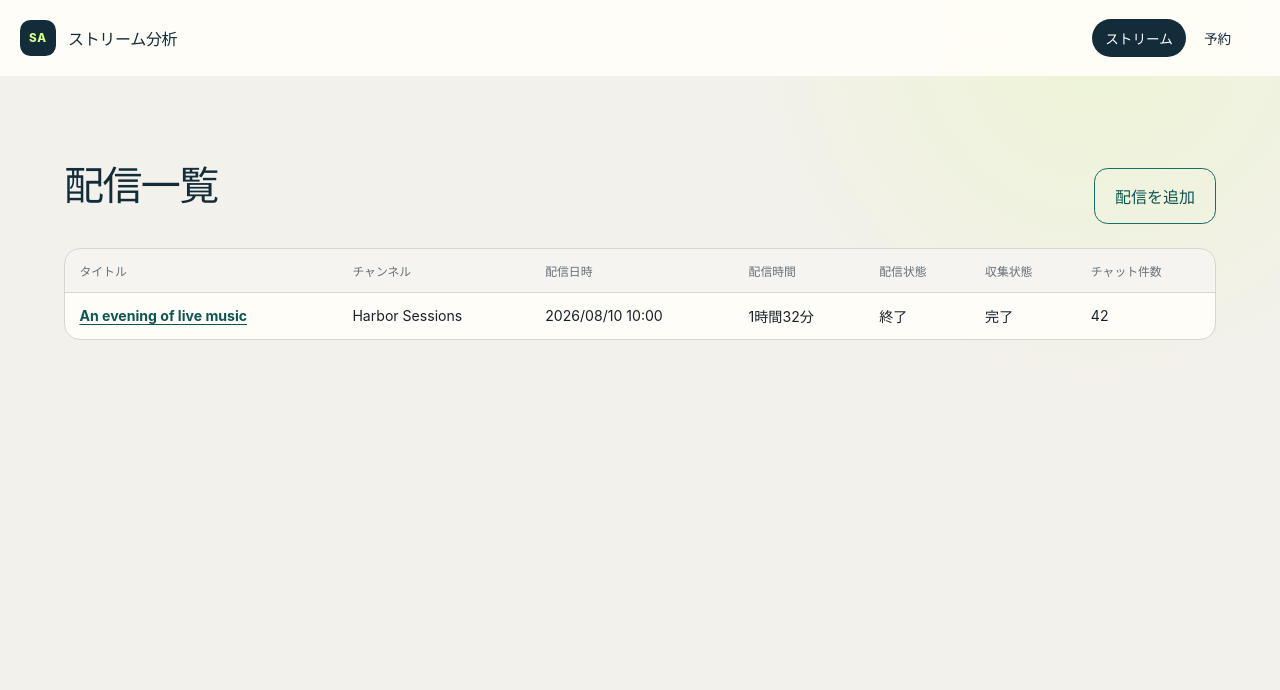
Test case: SCR-001 stream list › opens a listed stream directly
Click the link "An evening of live music". click: (163, 316)
box: [79,307,247,324]
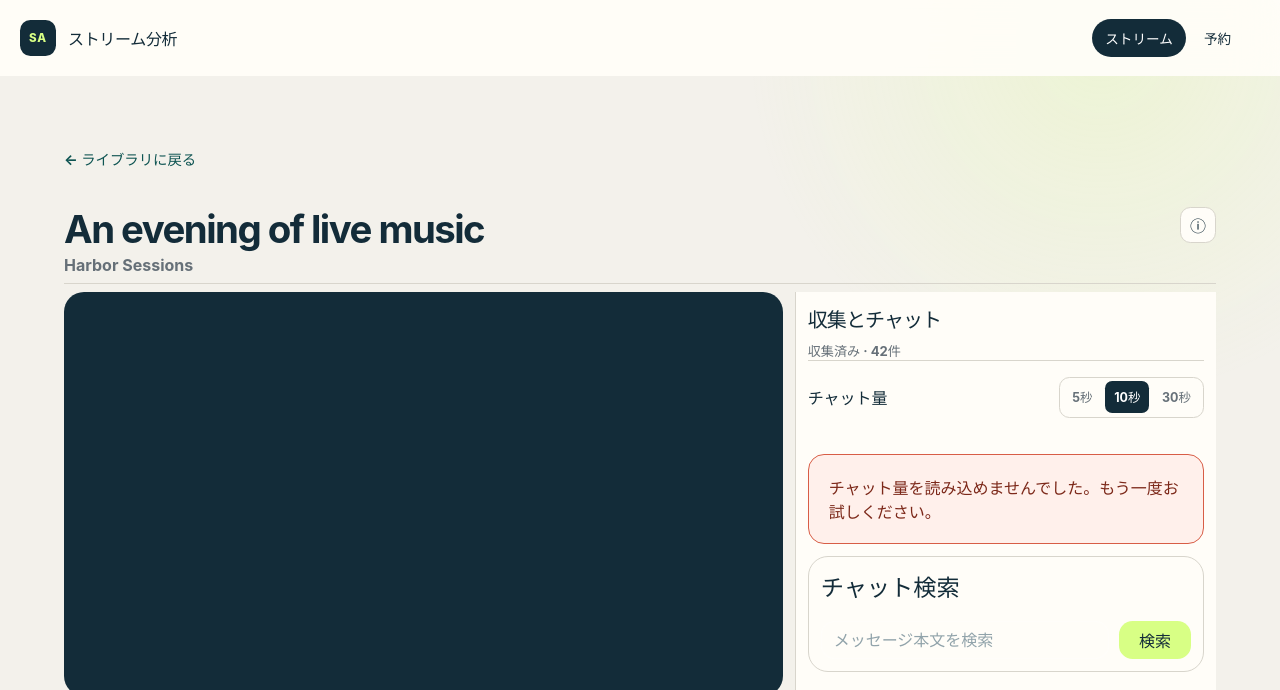
Expected: the link "← ライブラリに戻る" is shown, [64,151,196,168]
